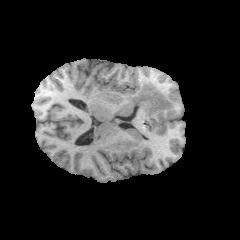glioma: (128, 84, 171, 115)
